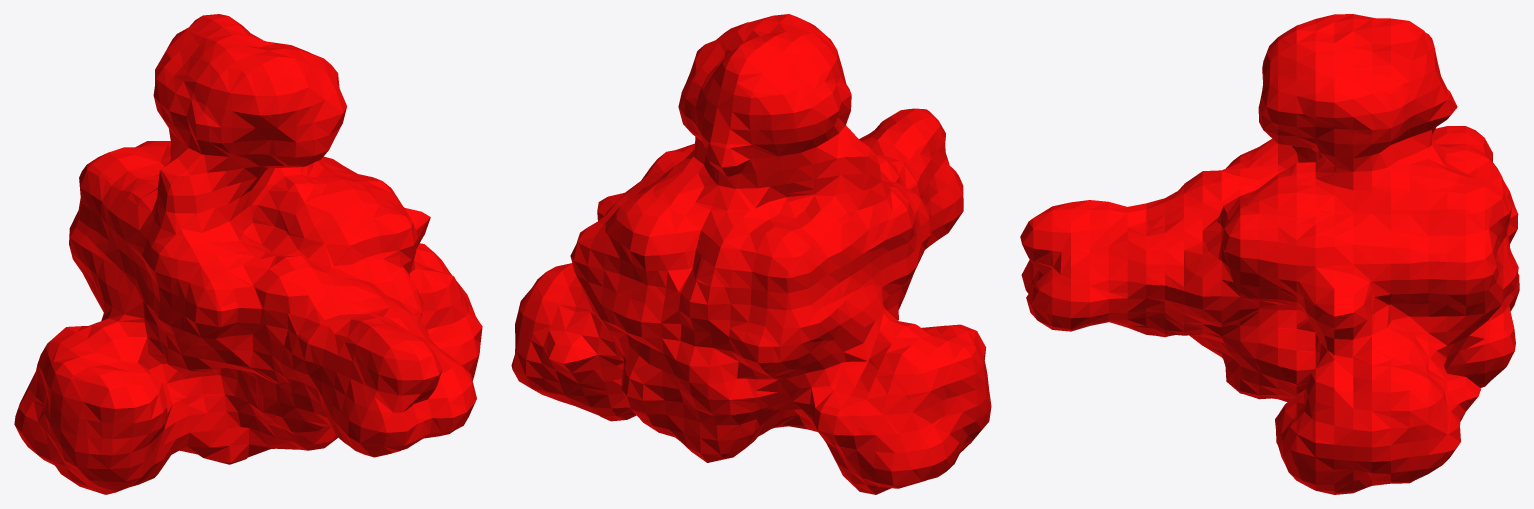
Rendered from lpxD_coarse.dae.
3 renders of one model, left to right at view 1: azimuth 30°, elevation 25°; view 2: azimuth 150°, elevation 25°; view 3: azimuth 270°, elevation 25°, orthographic. The views are drawn at different scales.
Visible parts, largest first — view 1: lpxD; view 2: lpxD; view 3: lpxD.
Boxes of the visible parts, x1,y1,x2,y2 form: lpxD: (14, 14, 482, 494); lpxD: (511, 14, 991, 494); lpxD: (1020, 14, 1519, 494).
Bounding box in the file's own units: 94.86 × 88 × 99.51.
